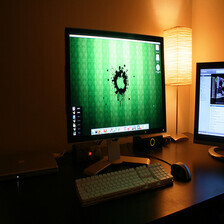laptop: (1, 150, 74, 180)
